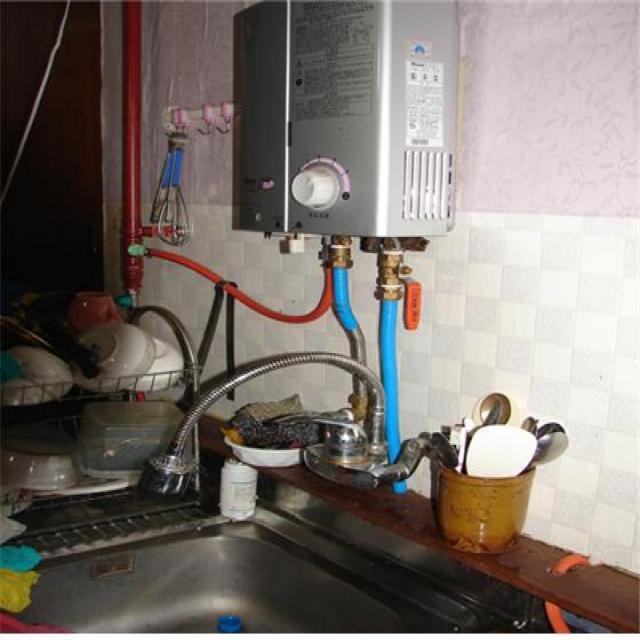Boiler: (222, 0, 469, 260)
